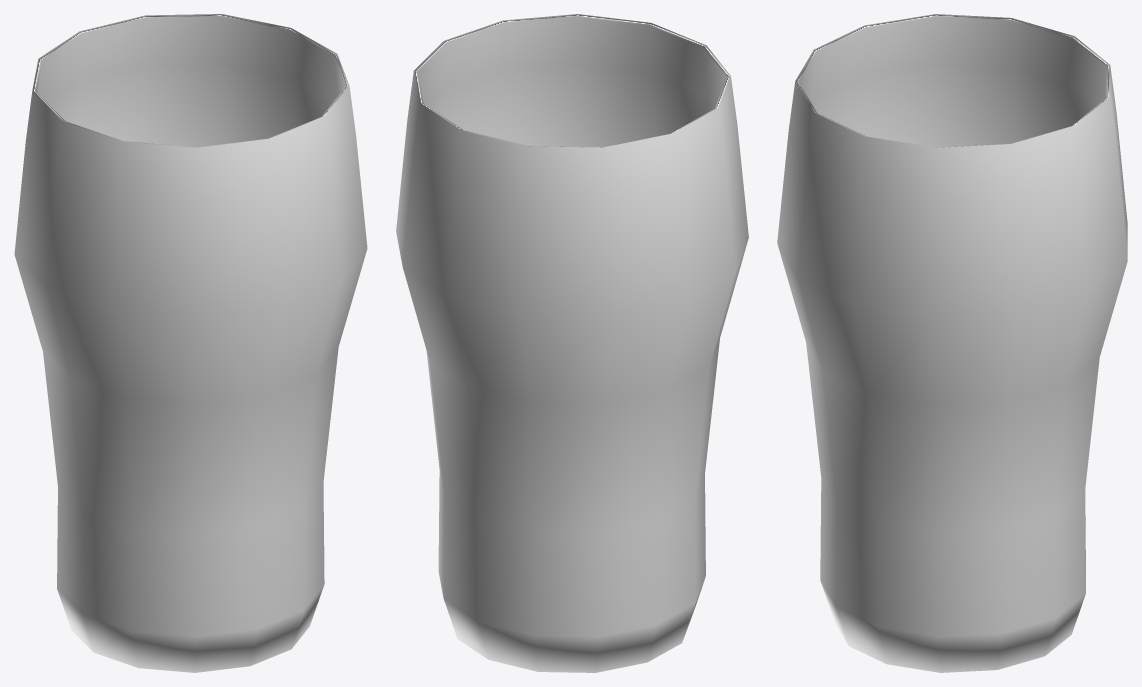
The model's file is beerGlassSmall.fbx.
3 renders of one model, left to right at view 1: azimuth 30°, elevation 25°; view 2: azimuth 150°, elevation 25°; view 3: azimuth 270°, elevation 25°, orthographic.
Parts seen in each view (by area): view 1: beerGlassSmall; view 2: beerGlassSmall; view 3: beerGlassSmall.
Boxes of the visible parts, left/top/right/bottom form: beerGlassSmall: left=14, top=14, right=367, bottom=672; beerGlassSmall: left=396, top=14, right=748, bottom=672; beerGlassSmall: left=777, top=14, right=1127, bottom=672.
Bounding box in the file's own units: 0.0973 × 0.1652 × 0.0966.
Materials: 1 (1 with a texture image).
